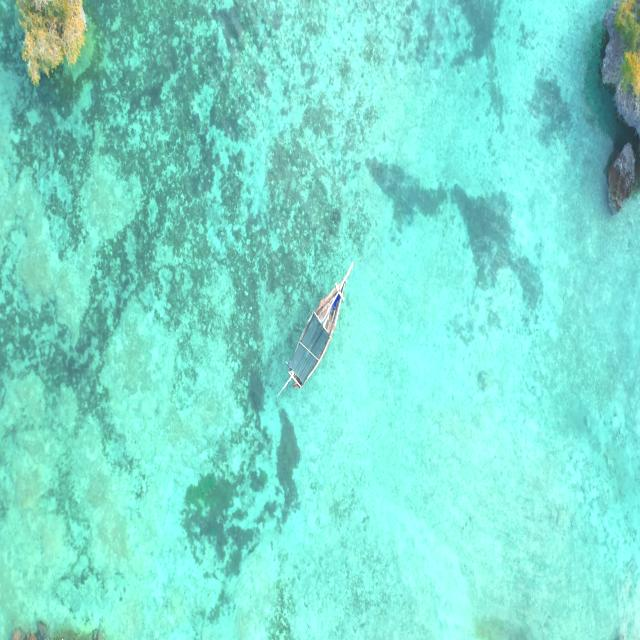ship: (282, 259, 355, 395)
